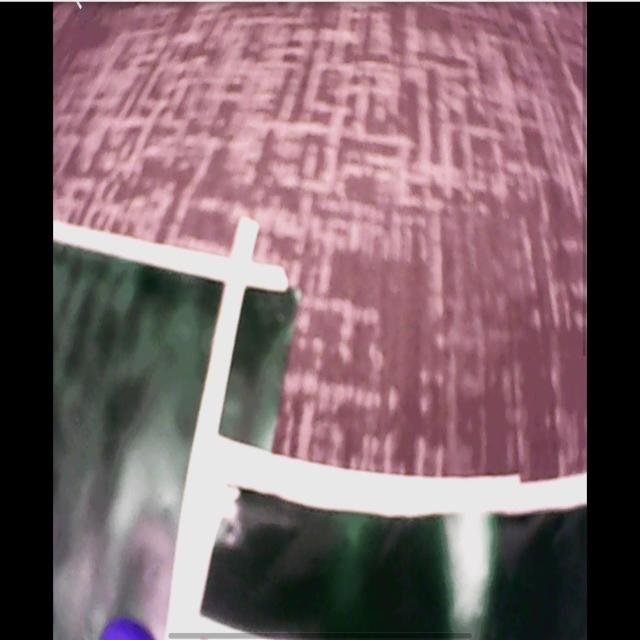ball: (99, 618, 154, 640)
